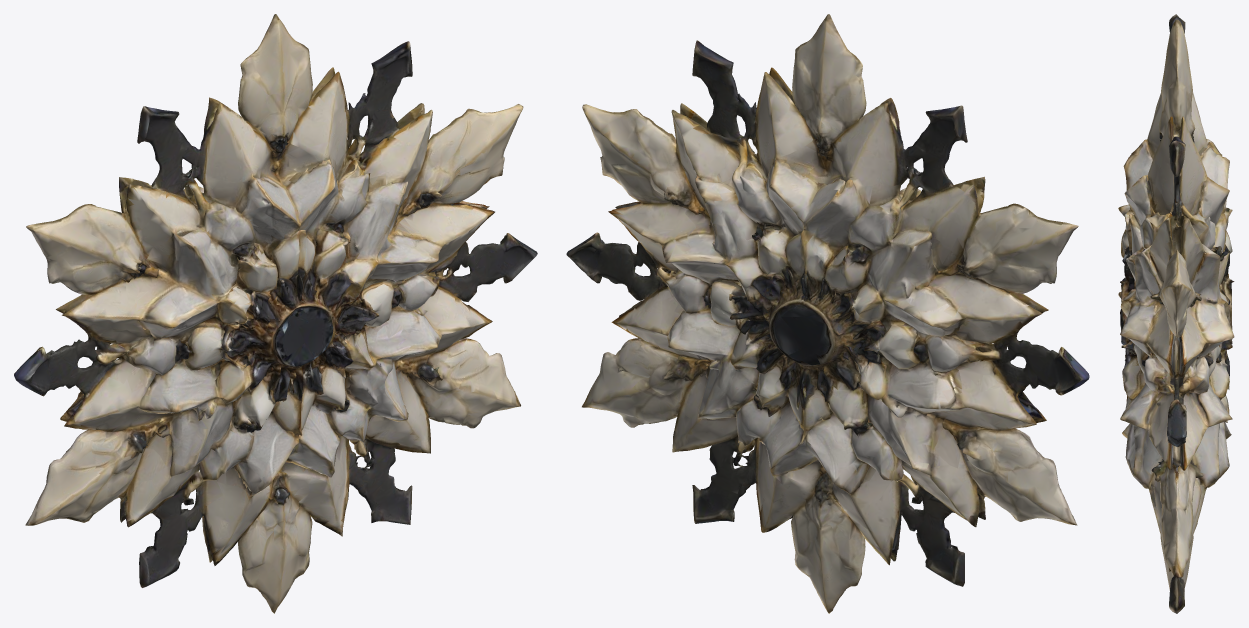
File: Yuki.glb
The picture shows the model from 3 angles, left to right: view 1: azimuth 30°, elevation 25°; view 2: azimuth 150°, elevation 25°; view 3: azimuth 270°, elevation 25°; orthographic projection. The views are drawn at different scales.
Visible parts, largest first — view 1: Yuki; view 2: Yuki; view 3: Yuki.
Part boxes in pixels (left/top/right/bottom): Yuki: left=14, top=14, right=537, bottom=613; Yuki: left=566, top=14, right=1089, bottom=613; Yuki: left=1118, top=14, right=1234, bottom=613.
Bounding box in the file's own units: 1.81 × 1.99 × 0.3579.
1 material, 1 textured.
